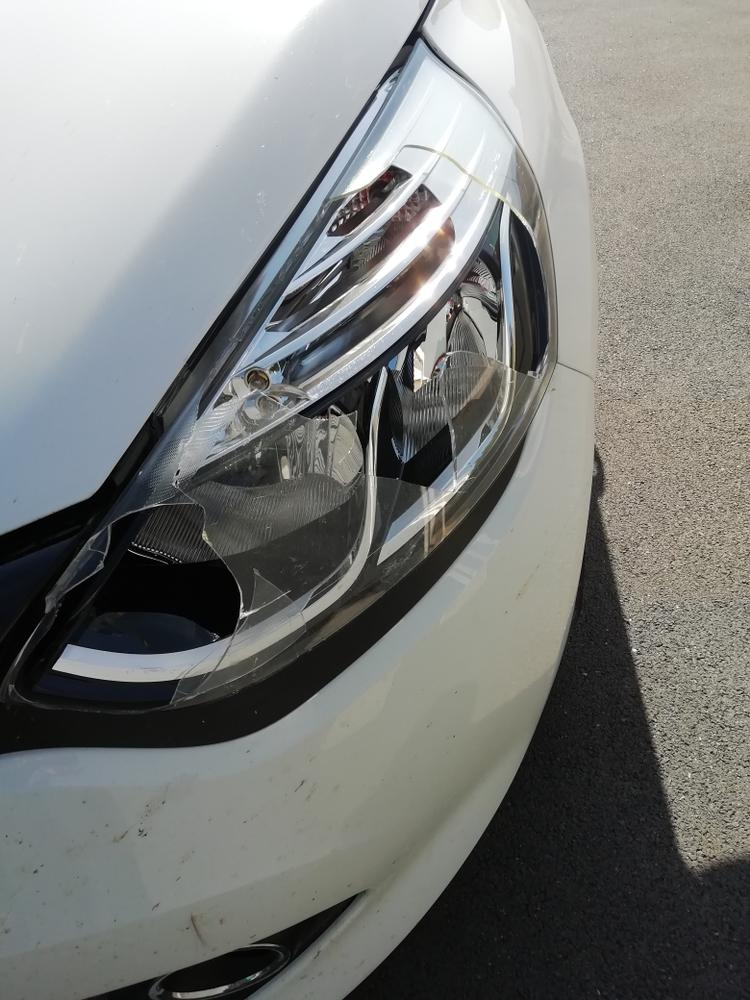lamp broken: (0, 40, 561, 722)
